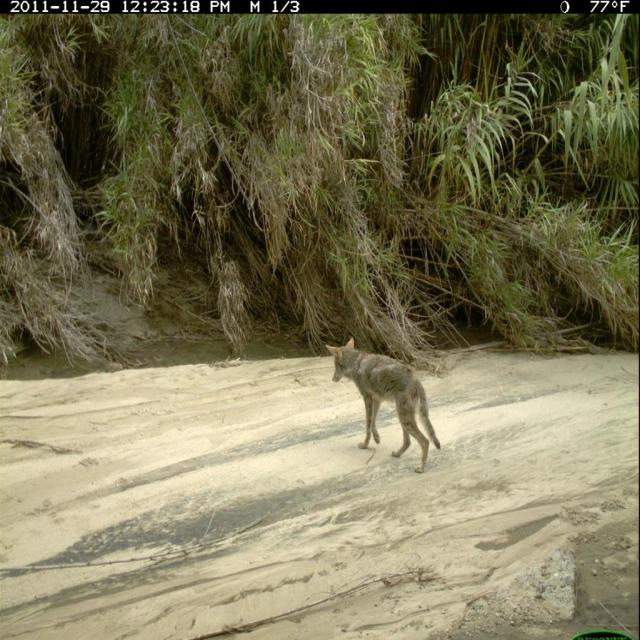coyote: (323, 333, 448, 480)
